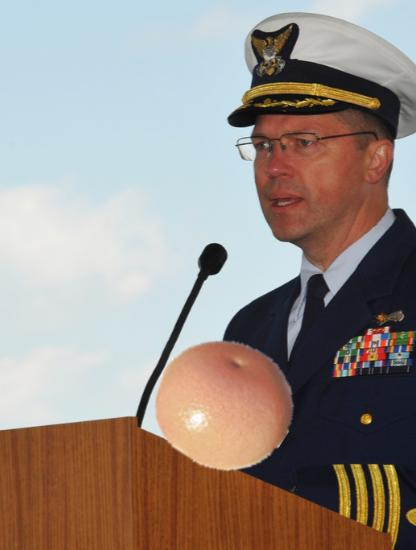Grapefruit: (155, 336, 294, 475)
